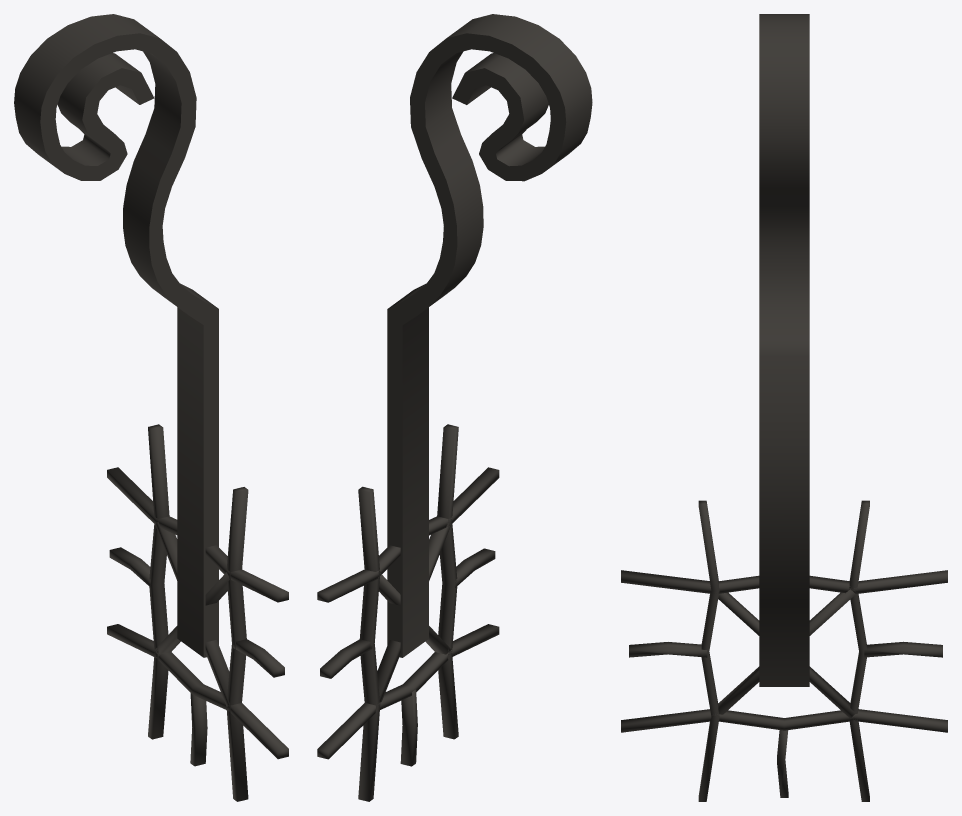
Rendered from Iron_Thing.fbx.
3 views of the same model, side by side, from view 1: azimuth 30°, elevation 25°; view 2: azimuth 150°, elevation 25°; view 3: azimuth 270°, elevation 25° (orthographic). The views are drawn at different scales.
Visible parts, largest first — view 1: Iron, Window_Iron; view 2: Iron, Window_Iron; view 3: Iron, Window_Iron.
Part boxes in pixels (x1,y1,x2,y2): Iron: (14,14,218,657); Window_Iron: (107,424,288,801); Iron: (387,14,592,657); Window_Iron: (317,424,499,801); Iron: (759,14,809,686); Window_Iron: (621,500,947,801).
Bounding box in the file's own units: 31.39 × 128 × 51.94.
